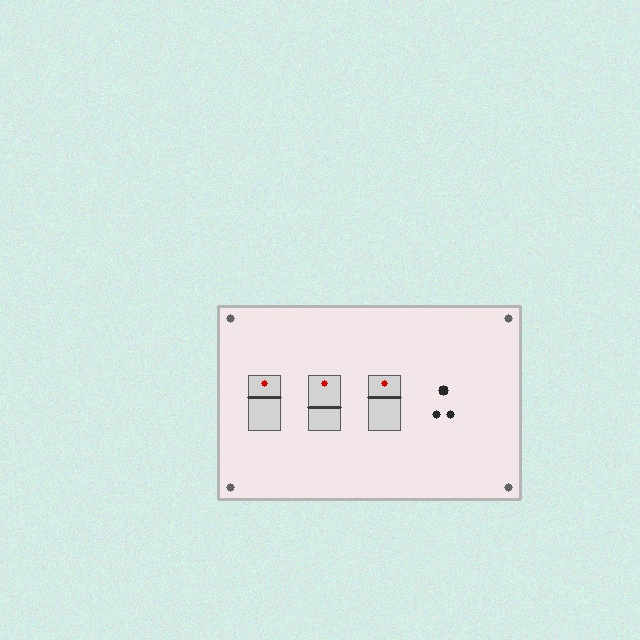switchboard: (218, 306, 520, 499)
